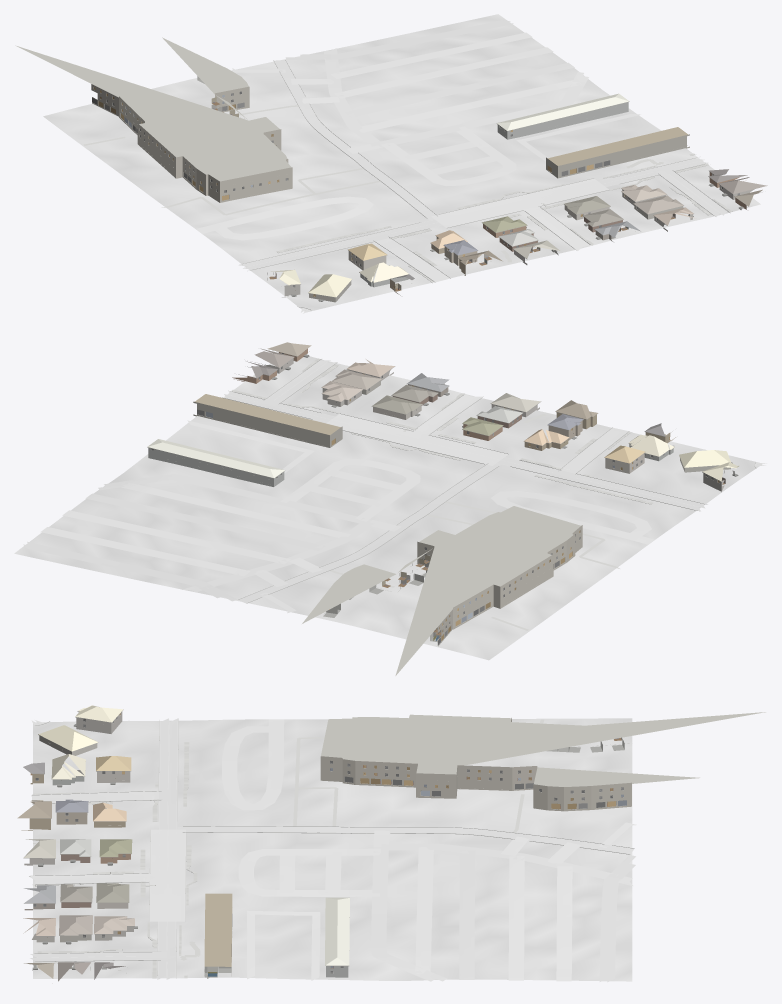
3 renders of one model, top to bottom at view 1: azimuth 30°, elevation 25°; view 2: azimuth 150°, elevation 25°; view 3: azimuth 270°, elevation 25°, orthographic. The views are drawn at different scales.
Visible parts, largest first — view 1: ground, concrete, roof_flat, roof, wall_com, asphalt, walk, wall_stucco, curb, detail, wall, glass (+3 smaller); view 2: ground, concrete, roof_flat, roof, asphalt, wall_com, wall_stucco, curb, walk, wall, detail, room (+1 smaller); view 3: ground, concrete, roof_flat, roof, asphalt, wall_com, walk, curb, wall, wall_stucco, detail, wall_stone (+4 smaller).
Part boxes in pixels (x1=…): ground: x1=43, y1=14, x2=760, y2=312; concrete: x1=196, y1=20, x2=640, y2=313; roof_flat: x1=15, y1=37, x2=687, y2=181; roof: x1=271, y1=93, x2=767, y2=297; wall_com: x1=91, y1=84, x2=689, y2=202; asphalt: x1=238, y1=158, x2=726, y2=269; walk: x1=84, y1=105, x2=731, y2=282; wall_stucco: x1=309, y1=102, x2=682, y2=302; curb: x1=242, y1=60, x2=729, y2=310; detail: x1=92, y1=91, x2=755, y2=301; wall: x1=390, y1=172, x2=746, y2=295; glass: x1=92, y1=91, x2=739, y2=287; ground: x1=14, y1=356, x2=761, y2=660; concrete: x1=23, y1=394, x2=766, y2=613; roof_flat: x1=195, y1=394, x2=580, y2=675; roof: x1=147, y1=342, x2=738, y2=481; asphalt: x1=224, y1=360, x2=705, y2=511; wall_com: x1=193, y1=401, x2=582, y2=646; wall_stucco: x1=148, y1=380, x2=730, y2=486; curb: x1=222, y1=359, x2=756, y2=603; walk: x1=231, y1=358, x2=652, y2=630; wall: x1=232, y1=348, x2=675, y2=450; detail: x1=147, y1=349, x2=738, y2=645; room: x1=205, y1=389, x2=725, y2=642; ground: x1=33, y1=718, x2=632, y2=981; concrete: x1=29, y1=719, x2=636, y2=982; roof_flat: x1=204, y1=712, x2=765, y2=966; roof: x1=17, y1=705, x2=349, y2=981; asphalt: x1=30, y1=718, x2=185, y2=979; wall_com: x1=231, y1=718, x2=631, y2=956; walk: x1=32, y1=719, x2=544, y2=978; curb: x1=29, y1=718, x2=634, y2=978; wall: x1=21, y1=774, x2=130, y2=910; wall_stucco: x1=39, y1=735, x2=348, y2=977; detail: x1=23, y1=709, x2=629, y2=976; wall_stone: x1=24, y1=711, x2=133, y2=942.
Bounding box in the file's own units: 263 × 16.03 × 314.
